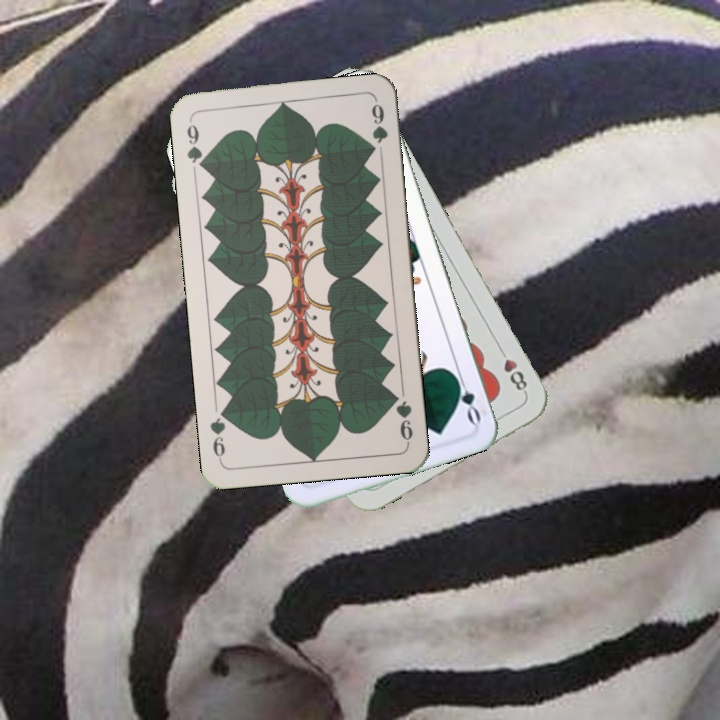G9: (388, 388, 416, 446), (183, 115, 209, 174)
GO: (449, 368, 484, 427)
H8: (494, 343, 530, 397)
